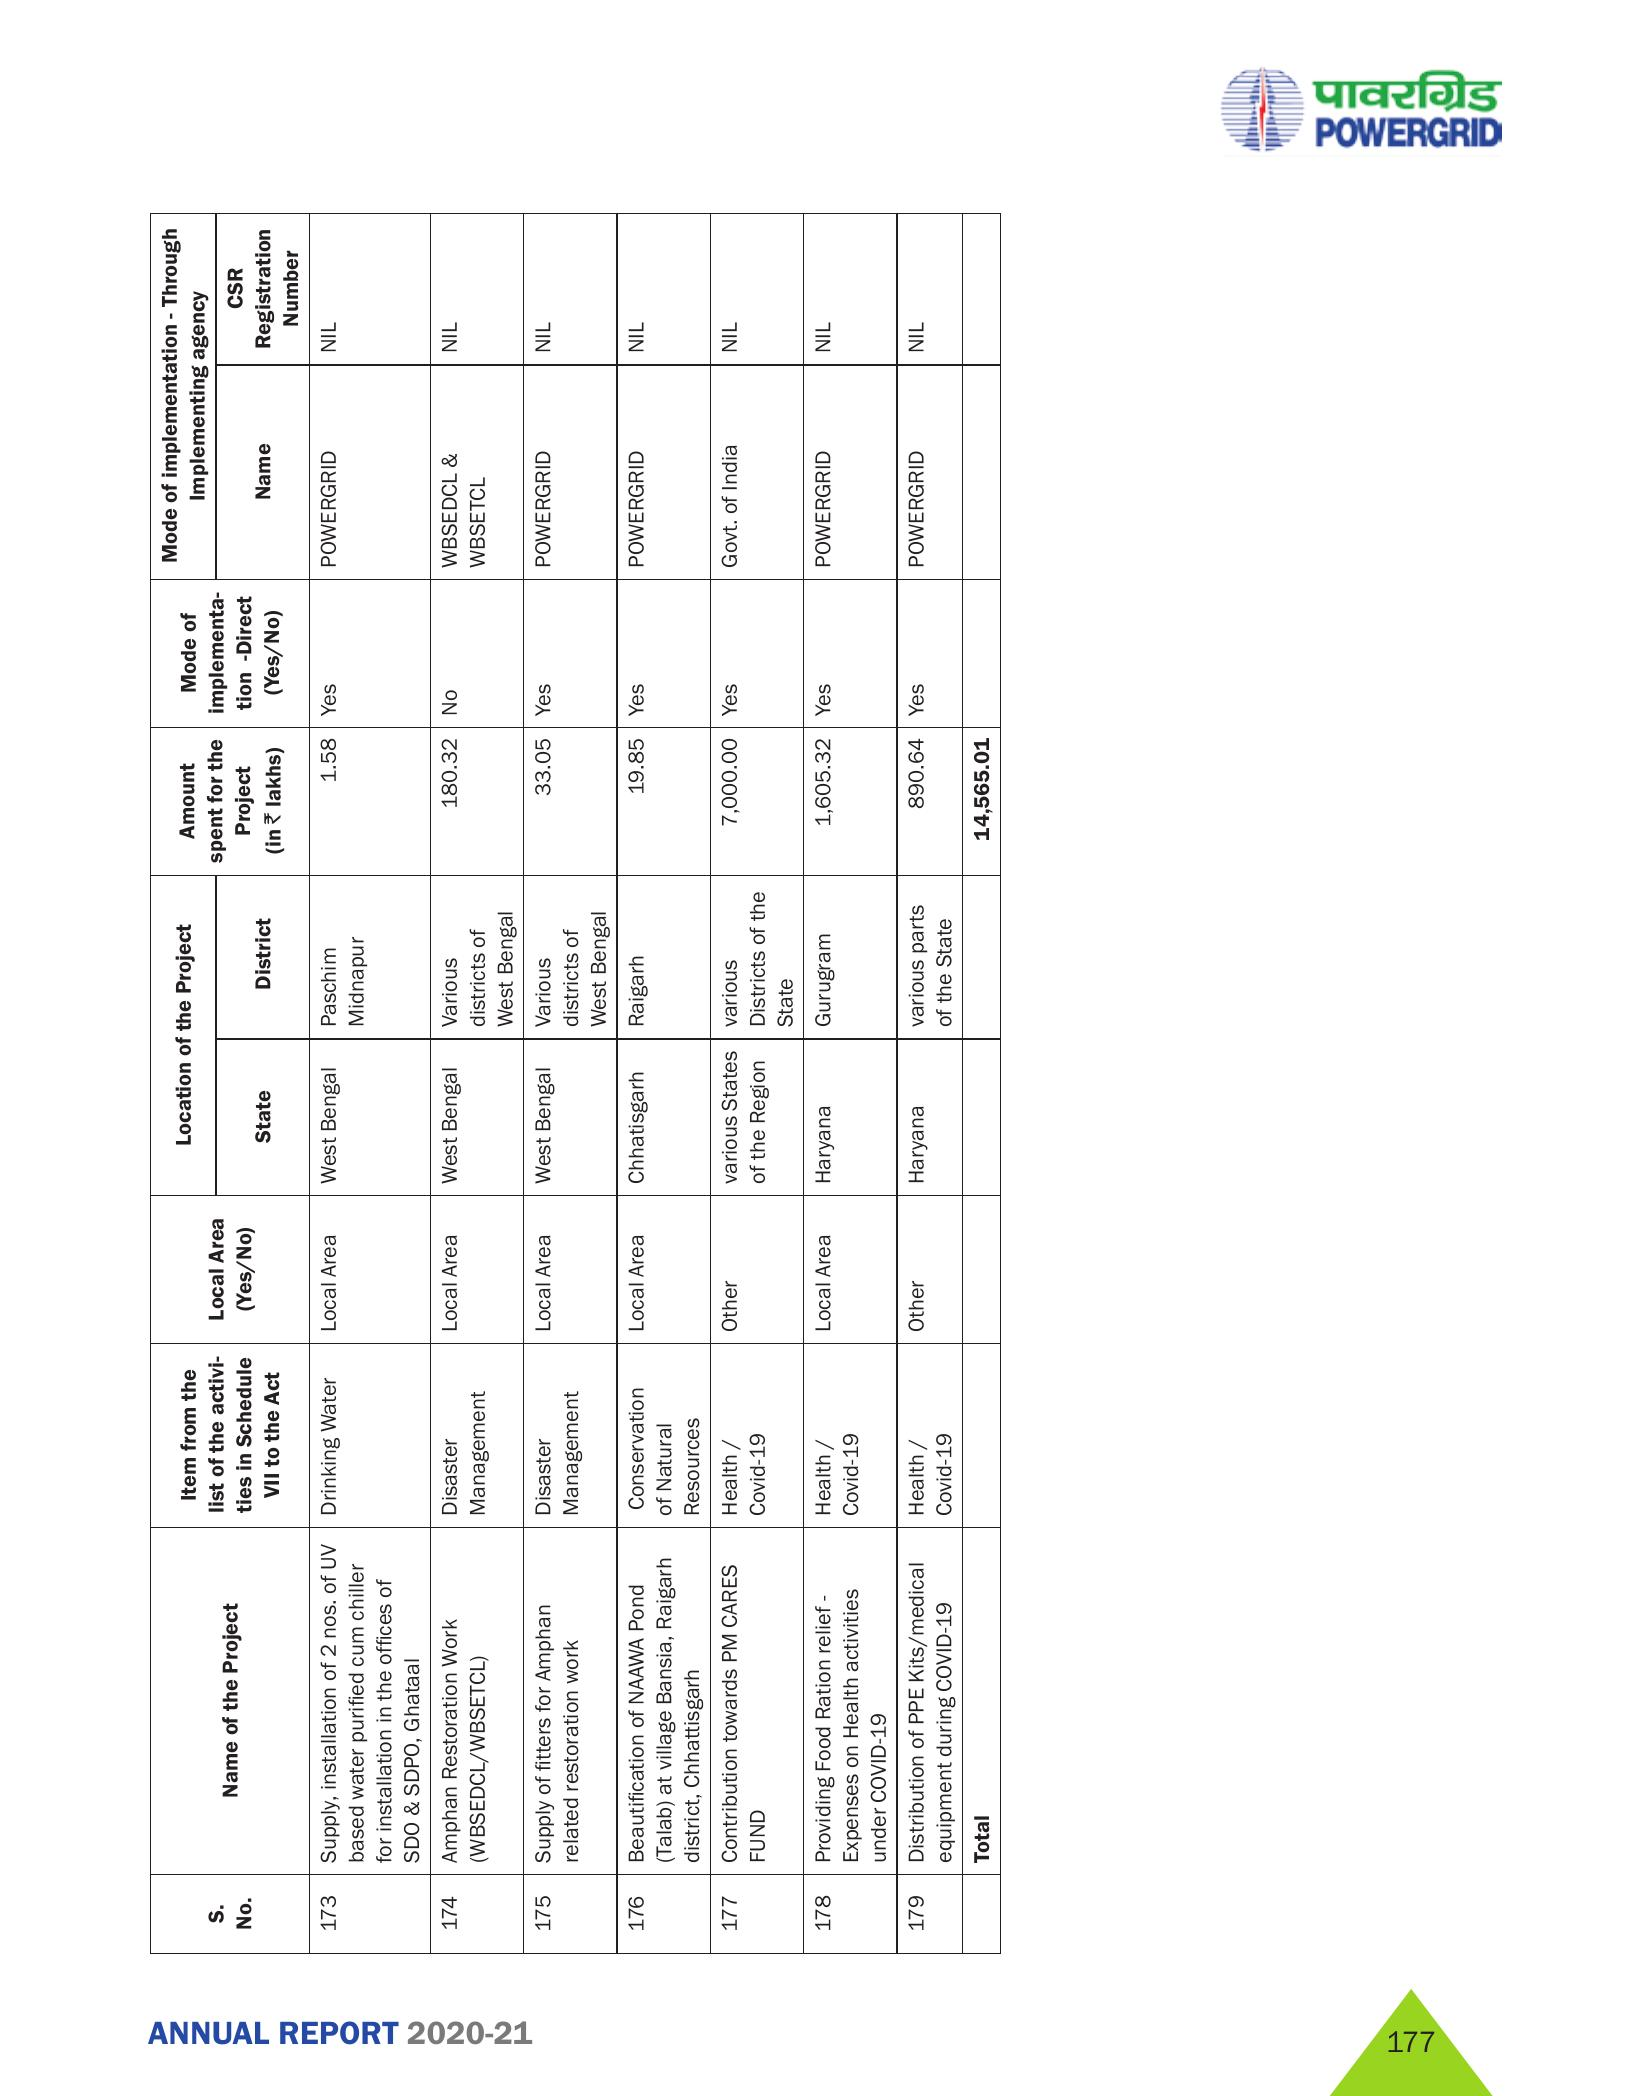Footer: (0, 1968, 1650, 2096)
Header: (0, 0, 1650, 172)
Table: (77, 208, 1055, 1956)
